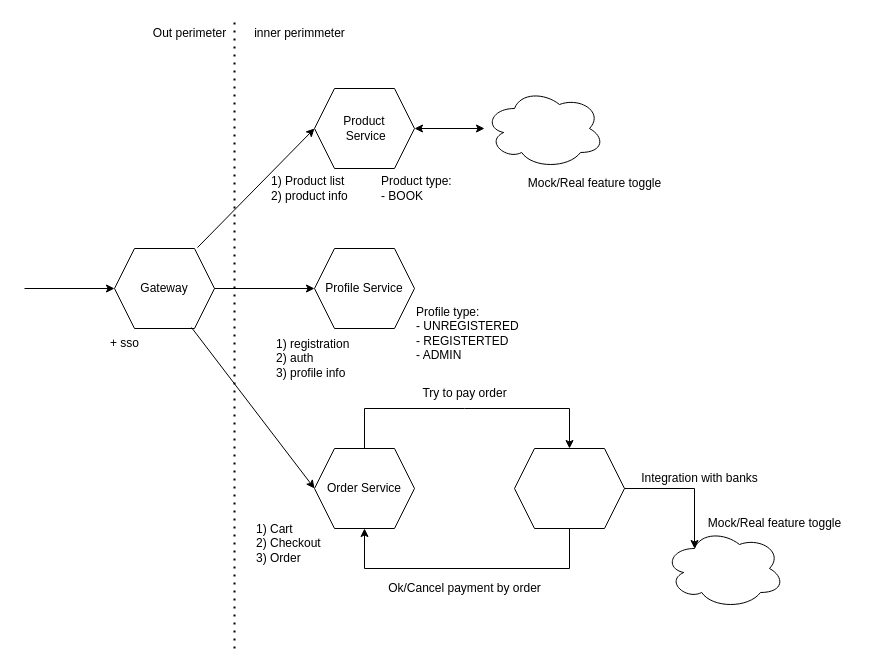
Some shapes in this 872 by 667 pixel diagram are drawn without their labels. The centre of each missing label's shape, as x and y in pixels:
Book Storage: the point at 544,128
Payment Service: the point at 569,488
